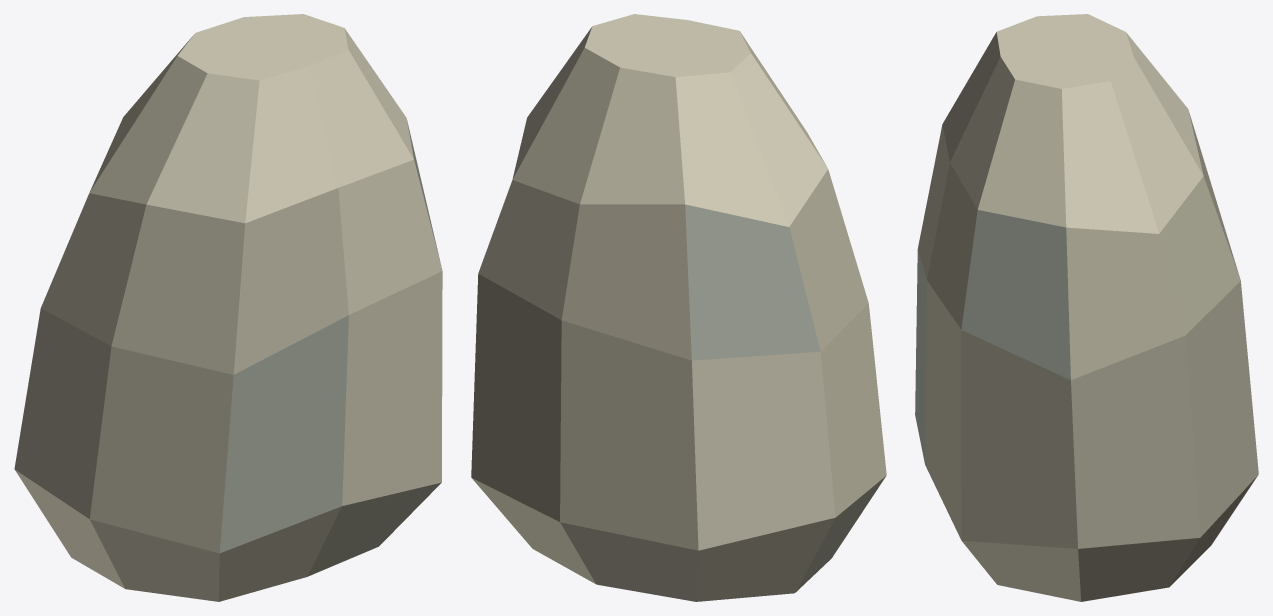
Rendered from reef_tall.glb.
3 renders of one model, left to right at view 1: azimuth 30°, elevation 25°; view 2: azimuth 150°, elevation 25°; view 3: azimuth 270°, elevation 25°, orthographic. The views are drawn at different scales.
Visible parts, largest first — view 1: reef_tall; view 2: reef_tall; view 3: reef_tall.
Part boxes in pixels (left/top/right/bottom): reef_tall: left=14, top=14, right=442, bottom=601; reef_tall: left=471, top=14, right=886, bottom=601; reef_tall: left=915, top=14, right=1258, bottom=601.
Bounding box in the file's own units: 1.83 × 2.25 × 1.42.
